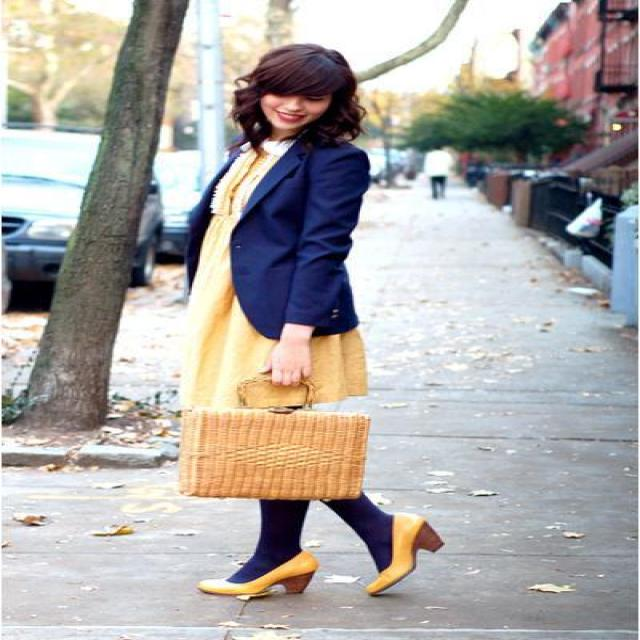bag: (180, 386, 370, 506)
dress: (186, 141, 370, 417)
jacket: (155, 141, 376, 341)
shoe: (198, 518, 440, 596)
